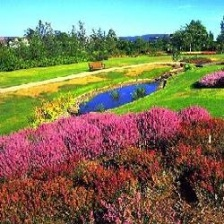neutral: (1, 2, 223, 224)
